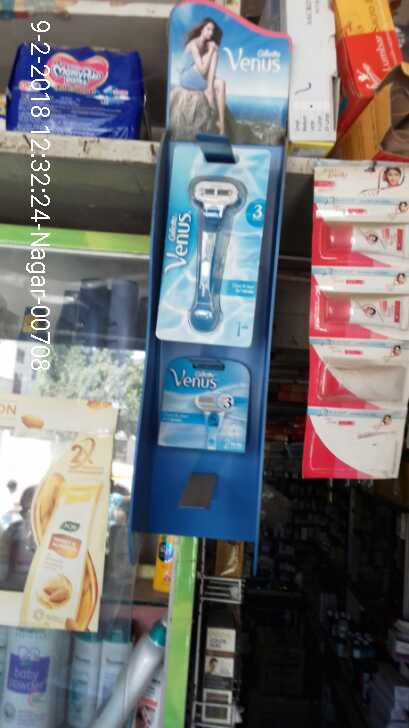venus: (165, 142, 253, 343), (161, 358, 243, 462)
